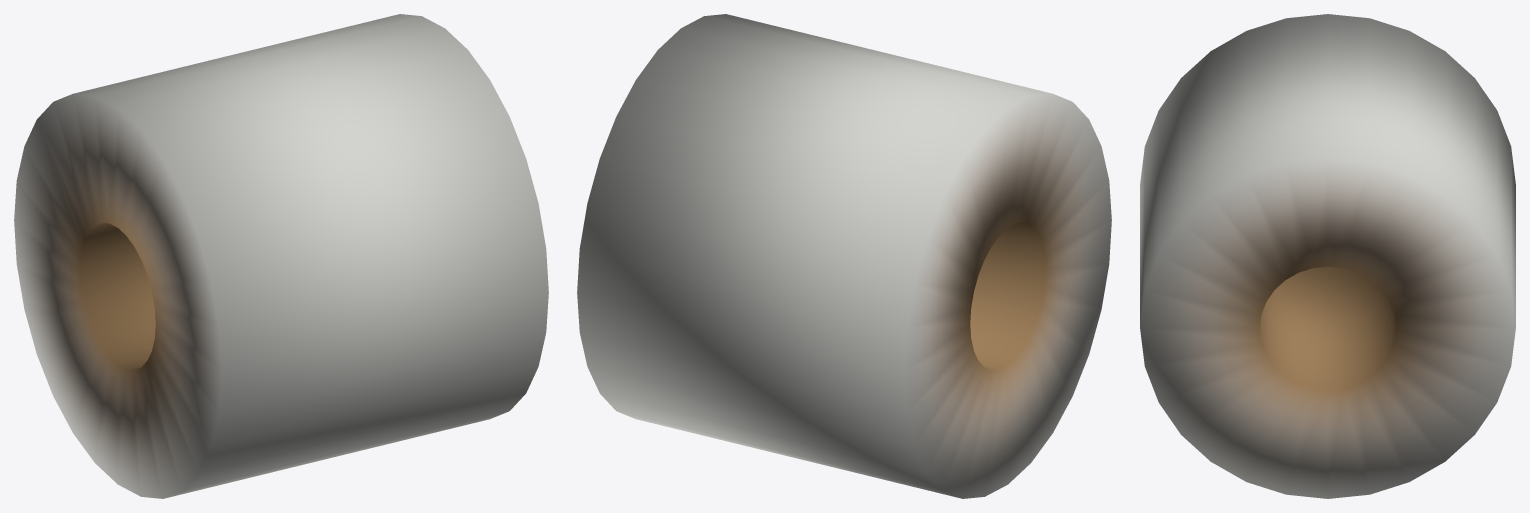
Rendered from toilet_paper.glb.
3 views of the same model, side by side, from view 1: azimuth 30°, elevation 25°; view 2: azimuth 150°, elevation 25°; view 3: azimuth 270°, elevation 25° (orthographic). The views are drawn at different scales.
Visible parts, largest first — view 1: toilet_paper; view 2: toilet_paper; view 3: toilet_paper.
Part boxes in pixels (left/top/right/bottom): toilet_paper: left=14, top=14, right=548, bottom=498; toilet_paper: left=577, top=14, right=1111, bottom=498; toilet_paper: left=1140, top=14, right=1515, bottom=498.
Bounding box in the file's own units: 0.1 × 0.11 × 0.11.
